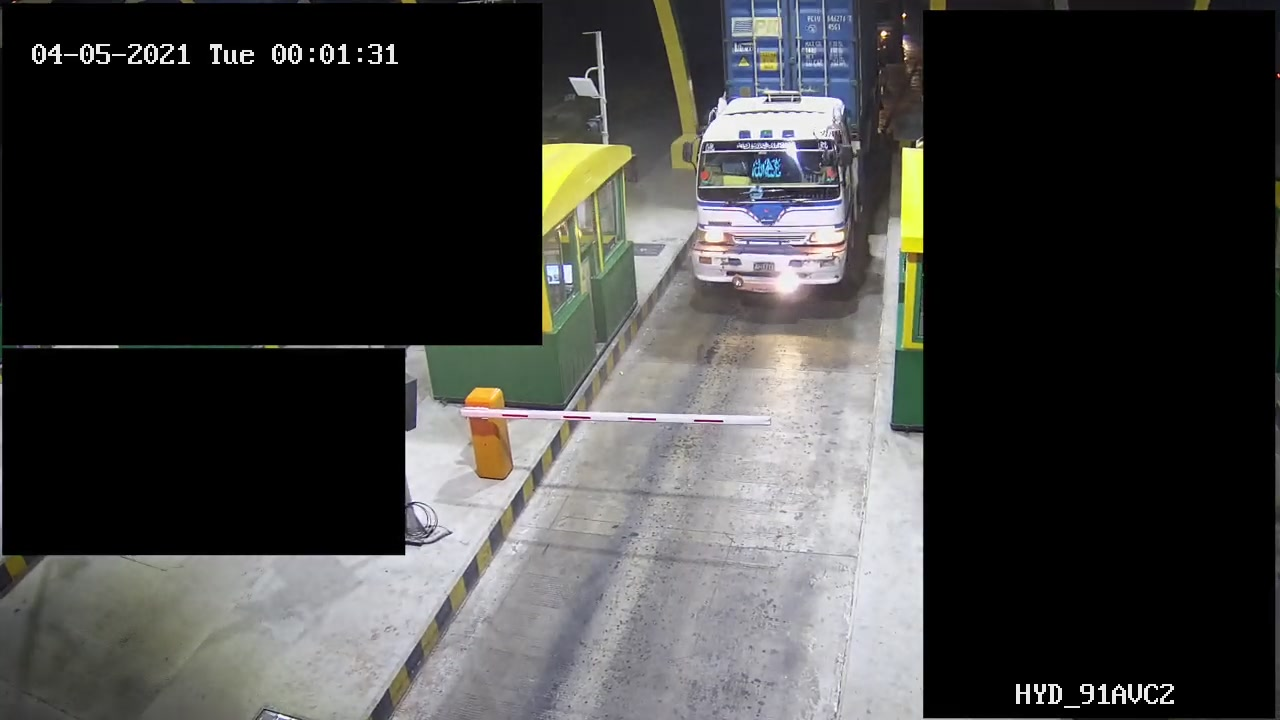F6: (683, 1, 871, 297)
